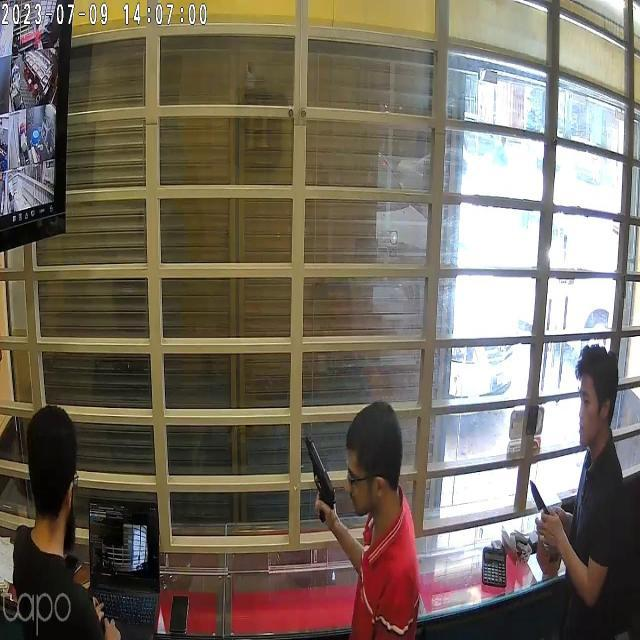Gun: (294, 422, 342, 516)
Knife: (522, 465, 556, 521)
